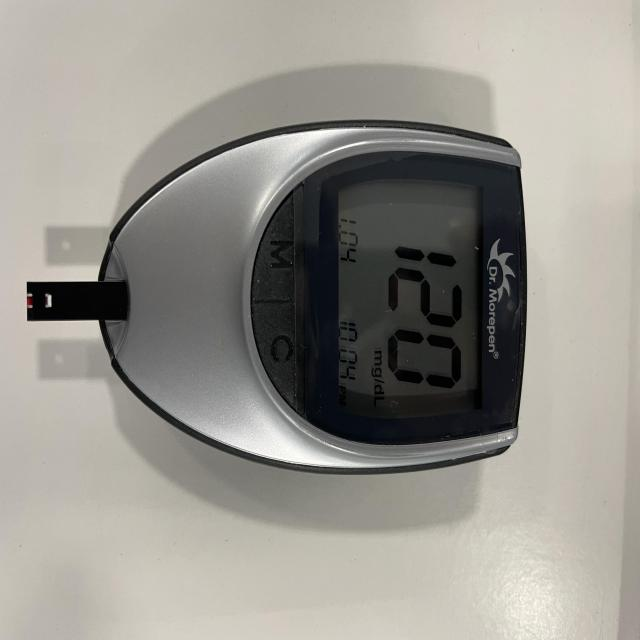gluco: (28, 64, 529, 478)
